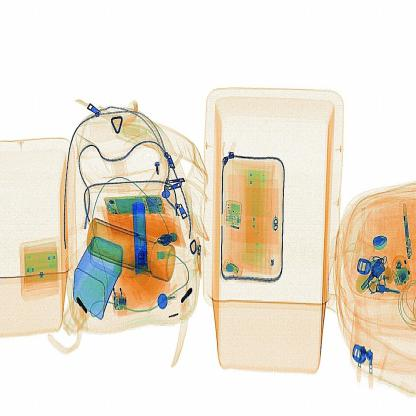pliers: (123, 193, 152, 280)
